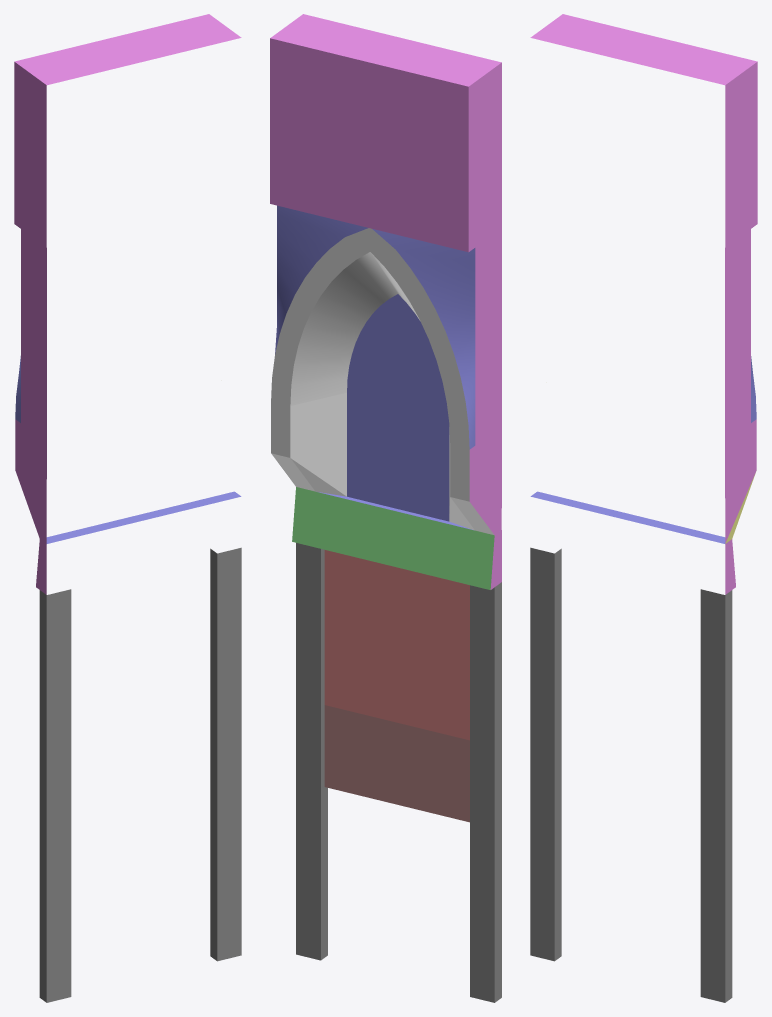
File: altar_ent_01.gltf
3 renders of one model, left to right at view 1: azimuth 30°, elevation 25°; view 2: azimuth 150°, elevation 25°; view 3: azimuth 330°, elevation 25°, orthographic.
Visible parts, largest first — view 1: altar_ent_01; view 2: altar_ent_01; view 3: altar_ent_01.
Part boxes in pixels (x1,y1,x2,y2): altar_ent_01: [14, 14, 241, 1002]; altar_ent_01: [270, 14, 501, 1002]; altar_ent_01: [530, 14, 757, 1002].
Size of the model in its own units: 5.12 by 23.04 by 1.48.
